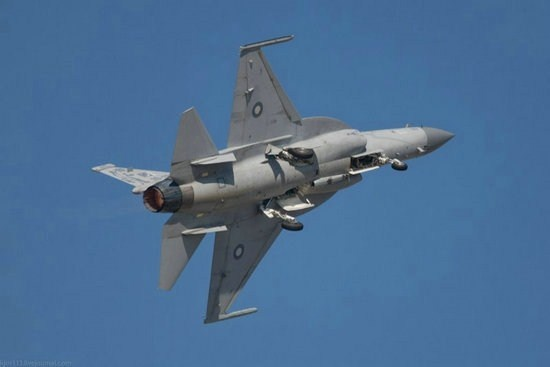airplane: (89, 34, 458, 331)
